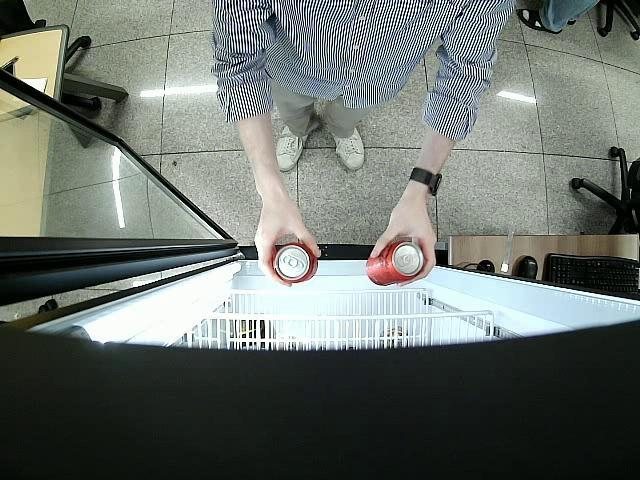11_cocaColaZero: (368, 240, 425, 286), (270, 240, 316, 284)
